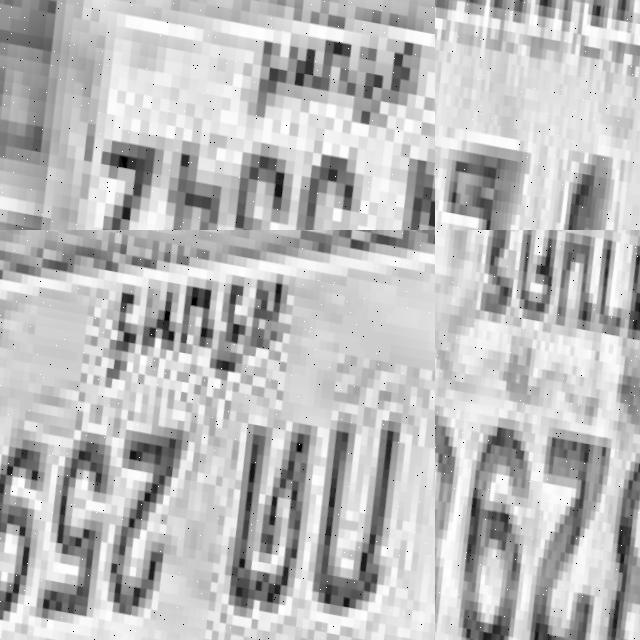license-plate: (0, 230, 435, 640), (0, 0, 435, 230), (435, 230, 640, 640), (435, 0, 640, 230)
